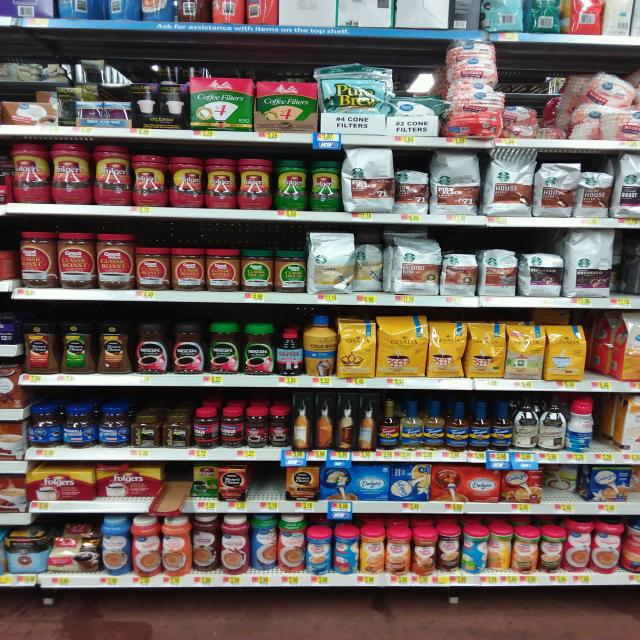void: (617, 228, 640, 298), (250, 462, 284, 500)
